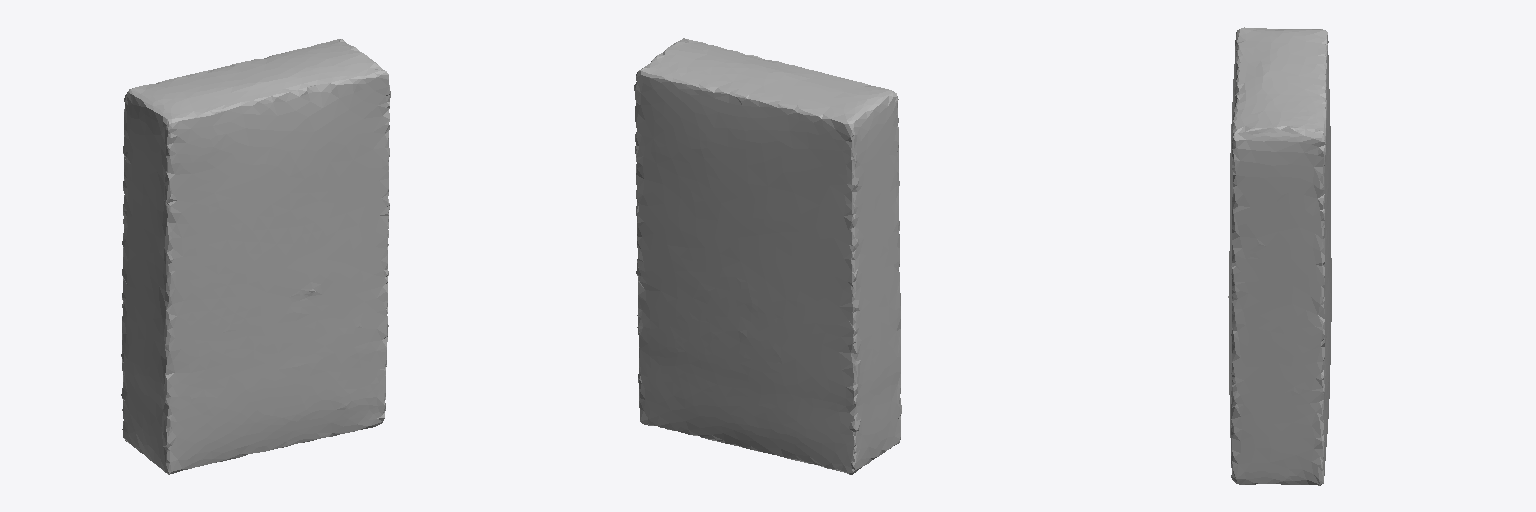
The picture shows the model from 3 angles: view 1: azimuth 30°, elevation 25°; view 2: azimuth 150°, elevation 25°; view 3: azimuth 270°, elevation 25°; orthographic projection.
Visible parts, largest first — view 1: SM_KoellnMuesliCranberry; view 2: SM_KoellnMuesliCranberry; view 3: SM_KoellnMuesliCranberry.
Part boxes in pixels (x1,y1,x2,y2): SM_KoellnMuesliCranberry: (121, 39, 390, 474); SM_KoellnMuesliCranberry: (634, 38, 901, 474); SM_KoellnMuesliCranberry: (1228, 27, 1331, 485).
Bounding box in the file's own units: 0.1462 × 0.2241 × 0.0584.